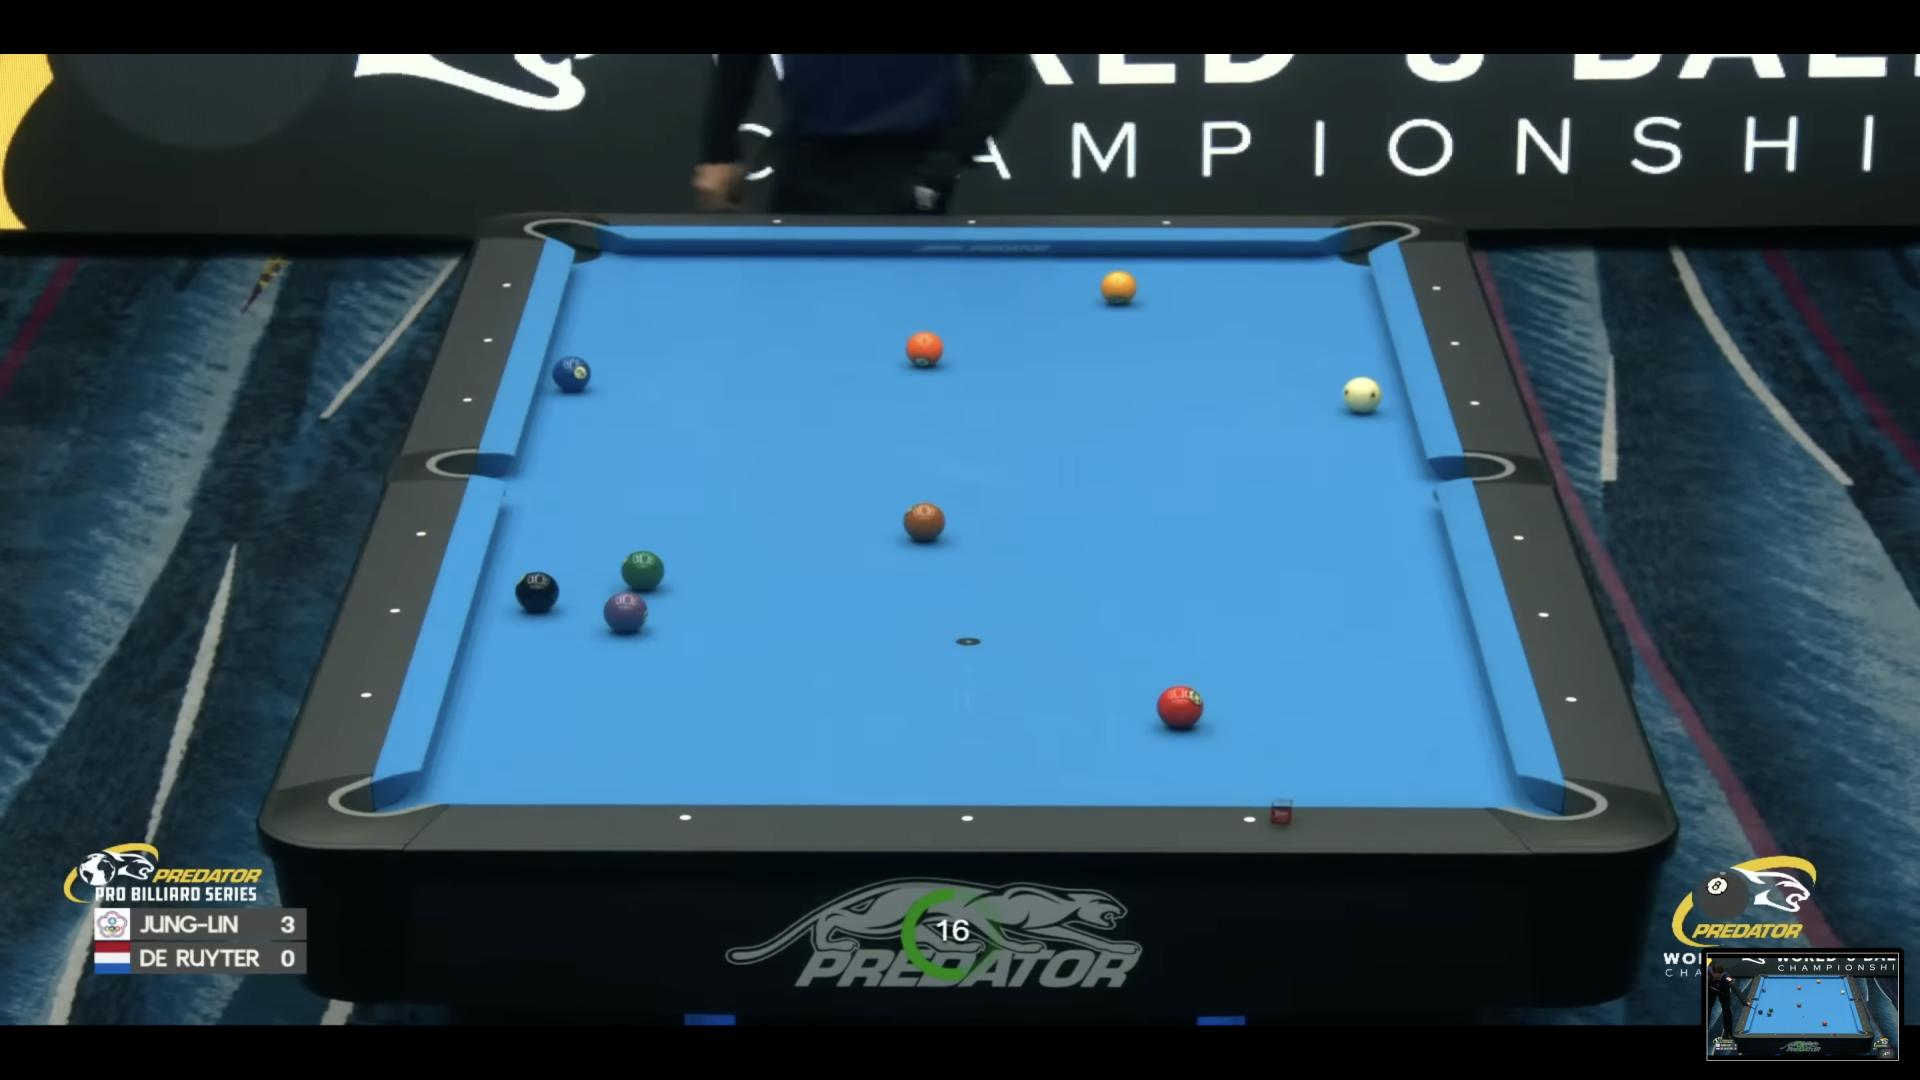Black: (514, 572, 559, 612)
Cue: (1342, 377, 1382, 413)
Dot: (959, 811, 976, 828), (676, 811, 694, 827), (1241, 814, 1258, 829), (1510, 530, 1527, 545), (1563, 692, 1578, 707), (1536, 608, 1552, 622), (498, 277, 513, 291), (459, 393, 475, 406), (388, 605, 402, 618), (481, 335, 496, 348), (360, 690, 373, 703), (414, 527, 427, 541), (1469, 397, 1481, 407), (1449, 339, 1461, 349), (1431, 282, 1443, 293), (771, 216, 782, 227), (967, 218, 977, 228), (1162, 218, 1174, 227)
Solid: (1156, 686, 1204, 728), (603, 592, 647, 632), (621, 550, 665, 589), (903, 501, 945, 541), (905, 331, 943, 367), (553, 356, 591, 392), (1101, 272, 1137, 305)
